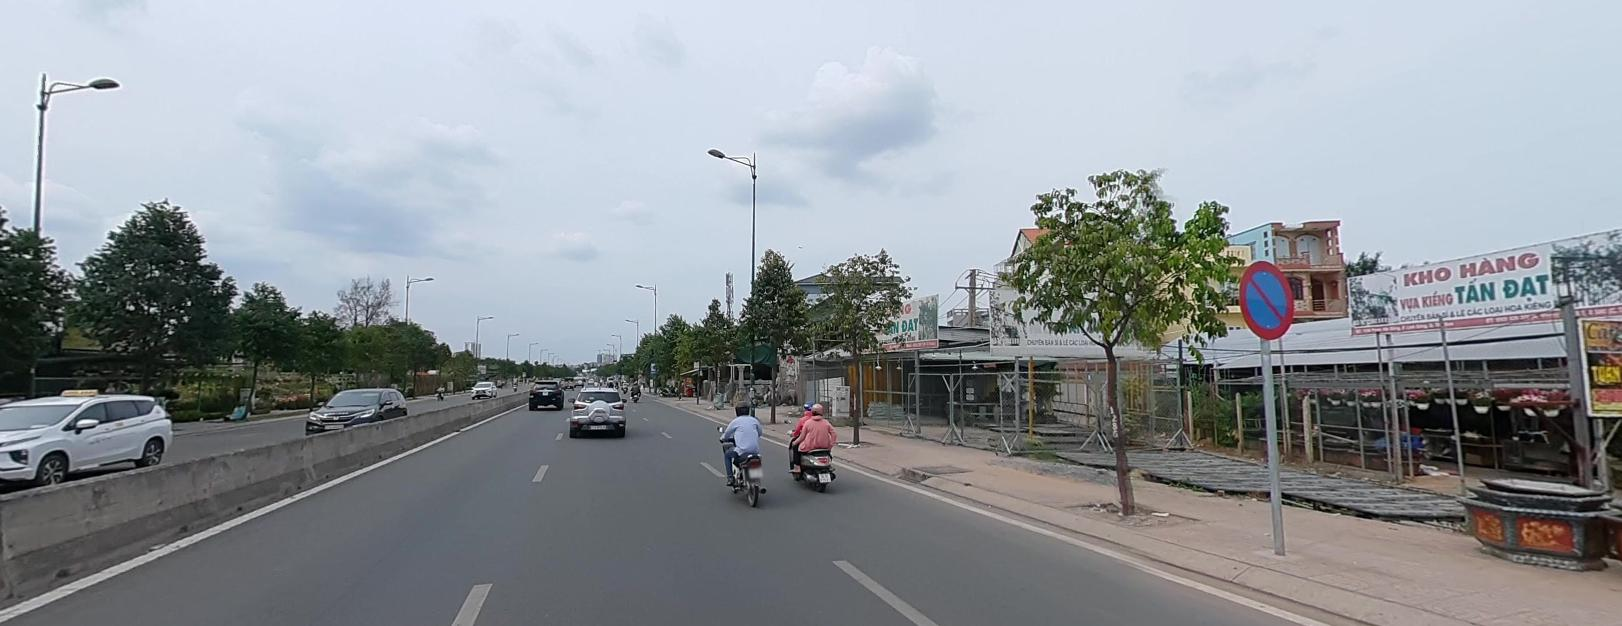Cam dung va do: (1239, 259, 1294, 339)
